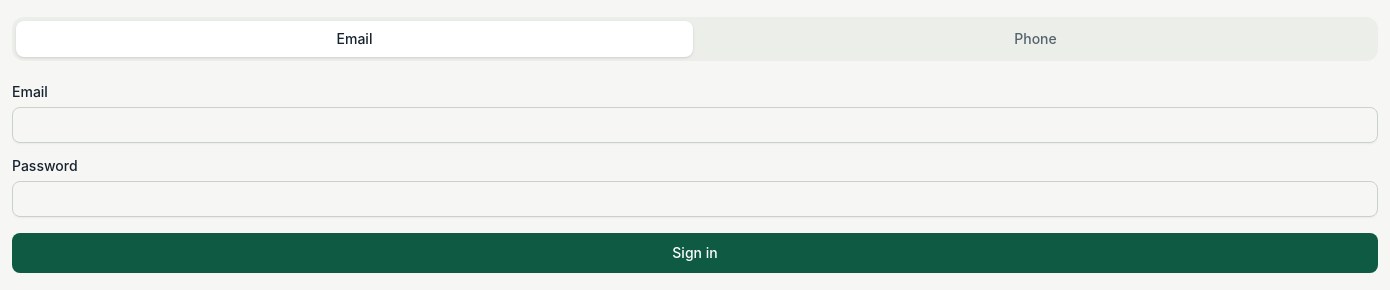
Scenario: SignInForm: phone OTP › normalizes the number, sends a code and shows a masked confirmation
Click the tab "Phone" at (1036,39), box [697, 21, 1374, 57]
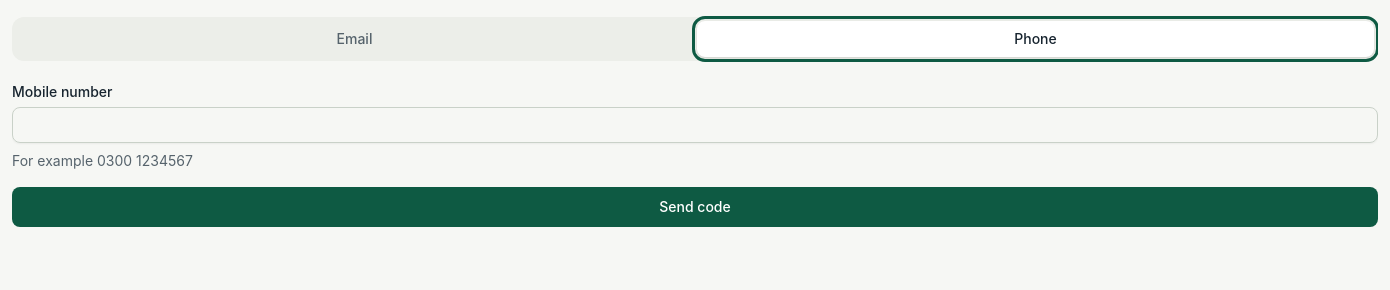
Type "0300 1234567" into the field labelled "Mobile number" at (695,125), box [12, 107, 1378, 143]
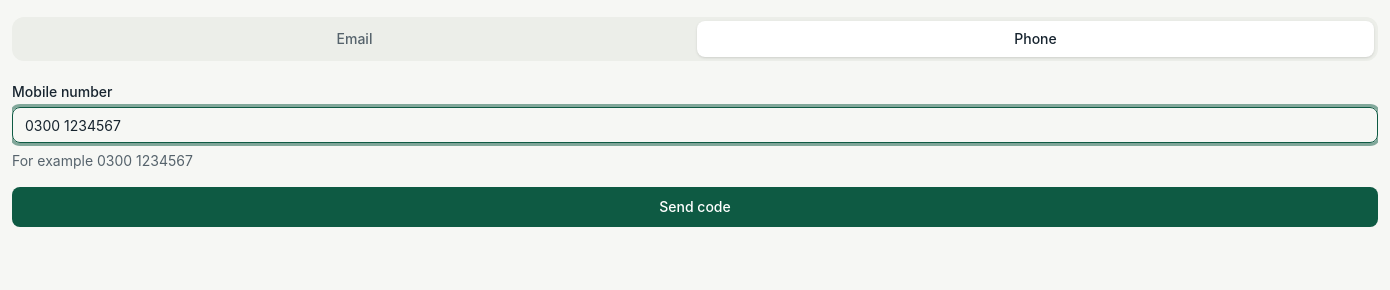
Click the button "Send code" at (695,207), box [12, 187, 1378, 227]
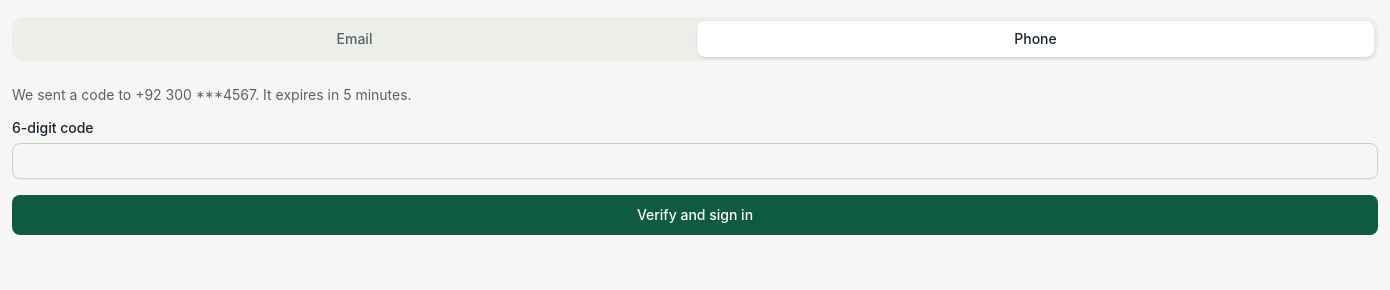
Check: the text "We sent a code to +92 300 ***4567. It expires in 5 minutes." is shown, box [12, 86, 412, 103]
Check: the text "1234567" is gone
